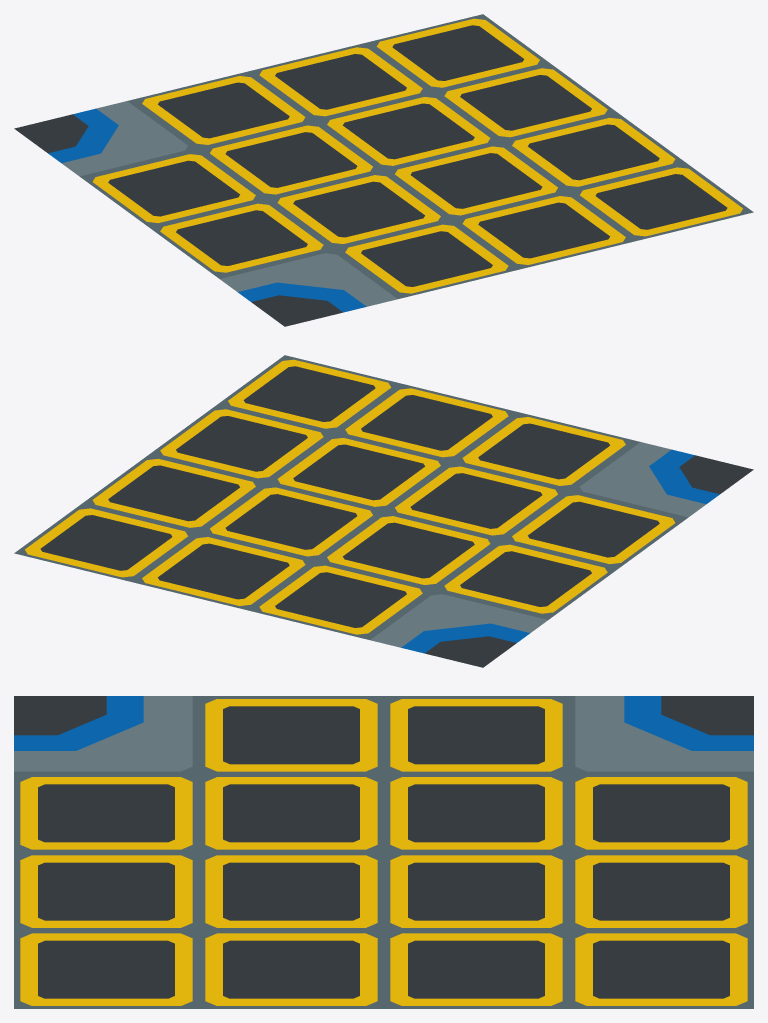
File: Floor_type_C_009.fbx
The picture shows the model from 3 angles, top to bottom: view 1: azimuth 30°, elevation 25°; view 2: azimuth 150°, elevation 25°; view 3: azimuth 270°, elevation 25°; orthographic projection. The views are drawn at different scales.
Parts seen in each view (by area): view 1: Floor_type_C_009; view 2: Floor_type_C_009; view 3: Floor_type_C_009.
Boxes of the visible parts, left/top/right/bottom form: Floor_type_C_009: left=14, top=14, right=753, bottom=326; Floor_type_C_009: left=14, top=355, right=753, bottom=667; Floor_type_C_009: left=14, top=696, right=753, bottom=1008.
Bounding box in the file's own units: 400 × 400 × 1.69e-21.
